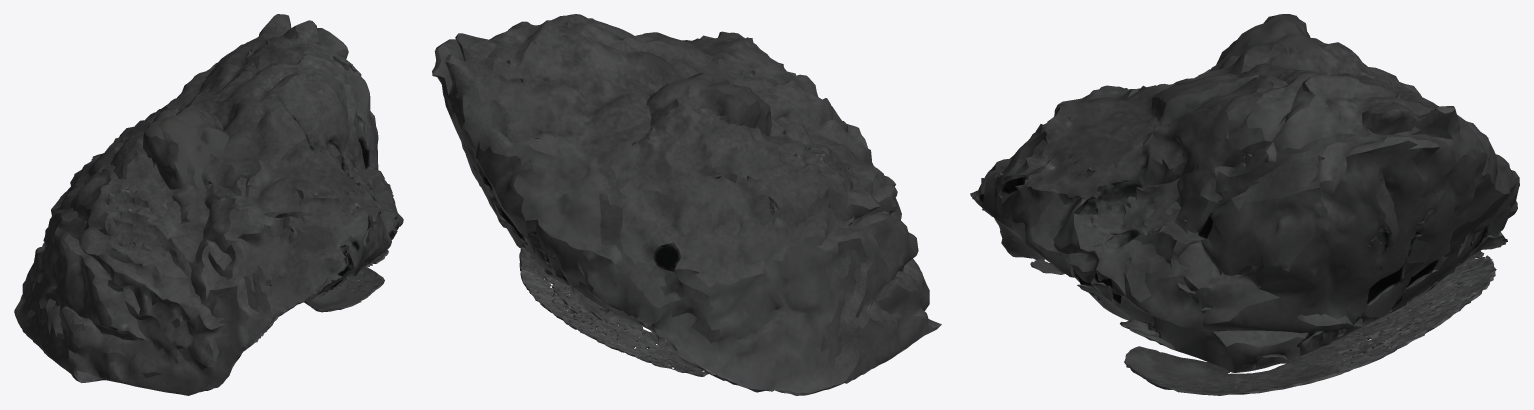
3 views of the same model, side by side, from view 1: azimuth 30°, elevation 25°; view 2: azimuth 150°, elevation 25°; view 3: azimuth 270°, elevation 25° (orthographic). The views are drawn at different scales.
Parts seen in each view (by area): view 1: world; view 2: world; view 3: world.
Part boxes in pixels (box(x1,y1,x2,y2)): world: box(14, 14, 403, 395); world: box(432, 14, 941, 395); world: box(970, 14, 1519, 395).
Size of the model in its own units: 0.45 by 0.2915 by 0.4411.
Materials: 1 (1 with a texture image).
